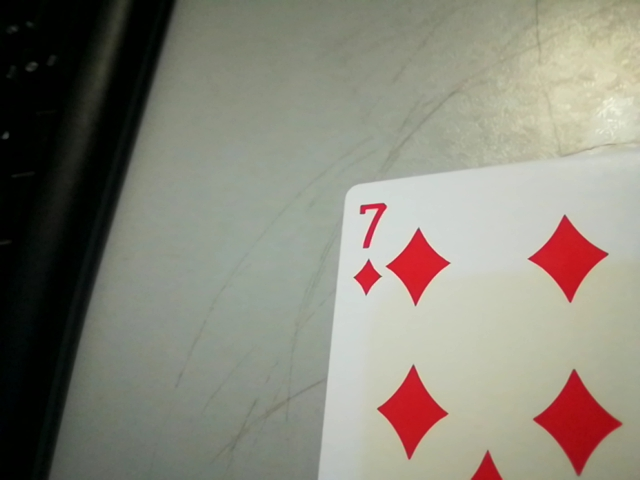fk 7: (342, 195, 395, 302)
